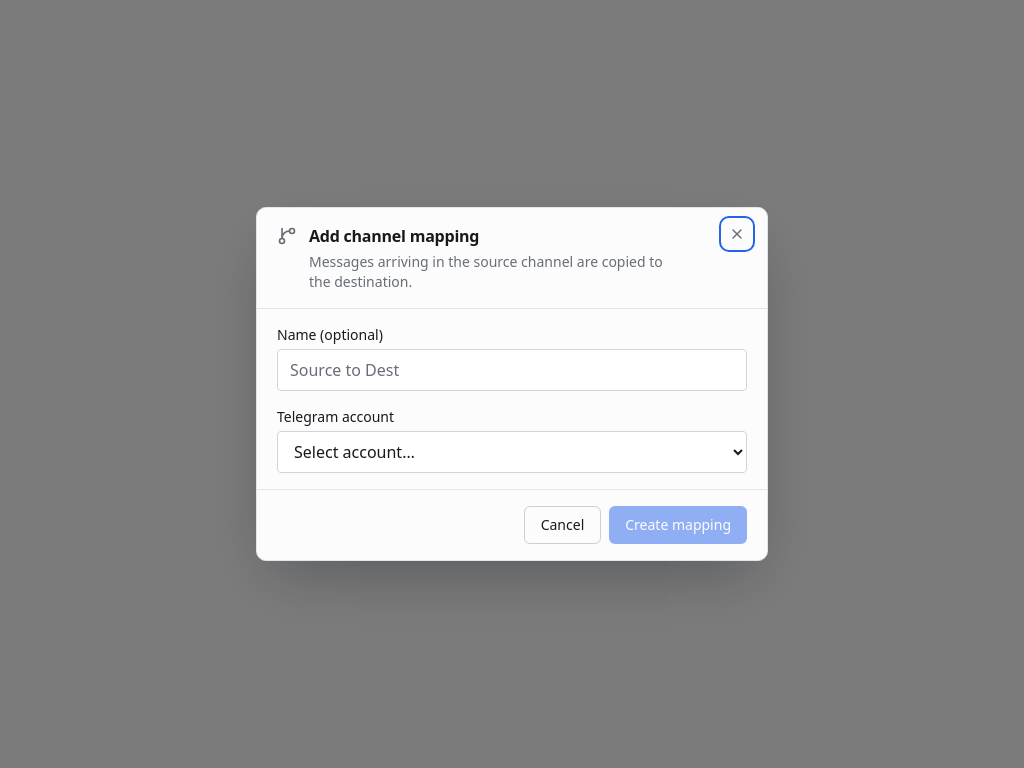
Test: AddMappingDialog › shows mapping create 400 detail
Select "Acc (user)" in the dropdown labelled "Telegram account": (512, 452) [277, 431, 747, 473]
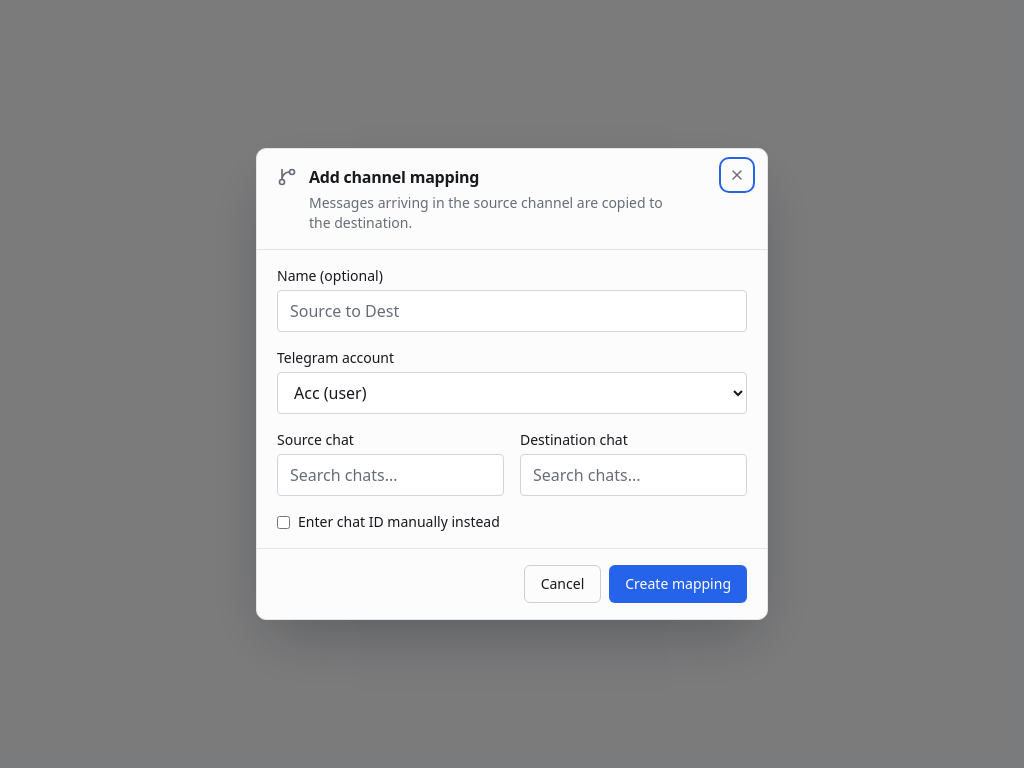
Click the checkbox labelled "Enter chat ID manually instead": (284, 522) [277, 516, 290, 528]
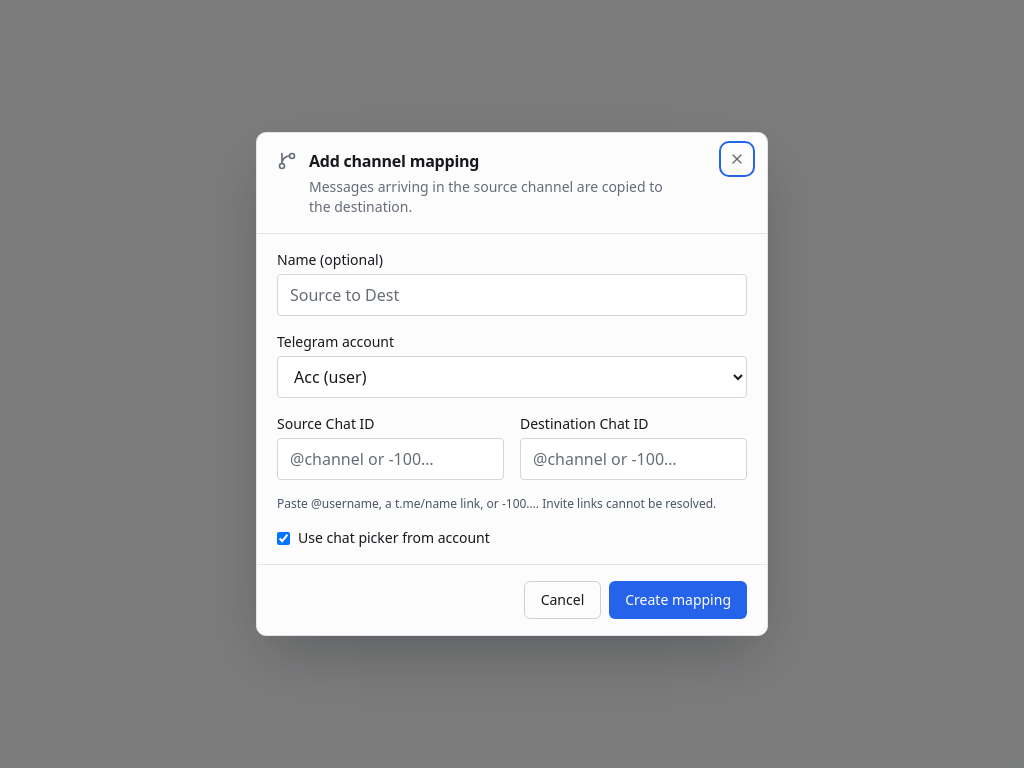
In the field labelled "Source Chat ID": (390, 459) [277, 438, 504, 480], type "-1001"
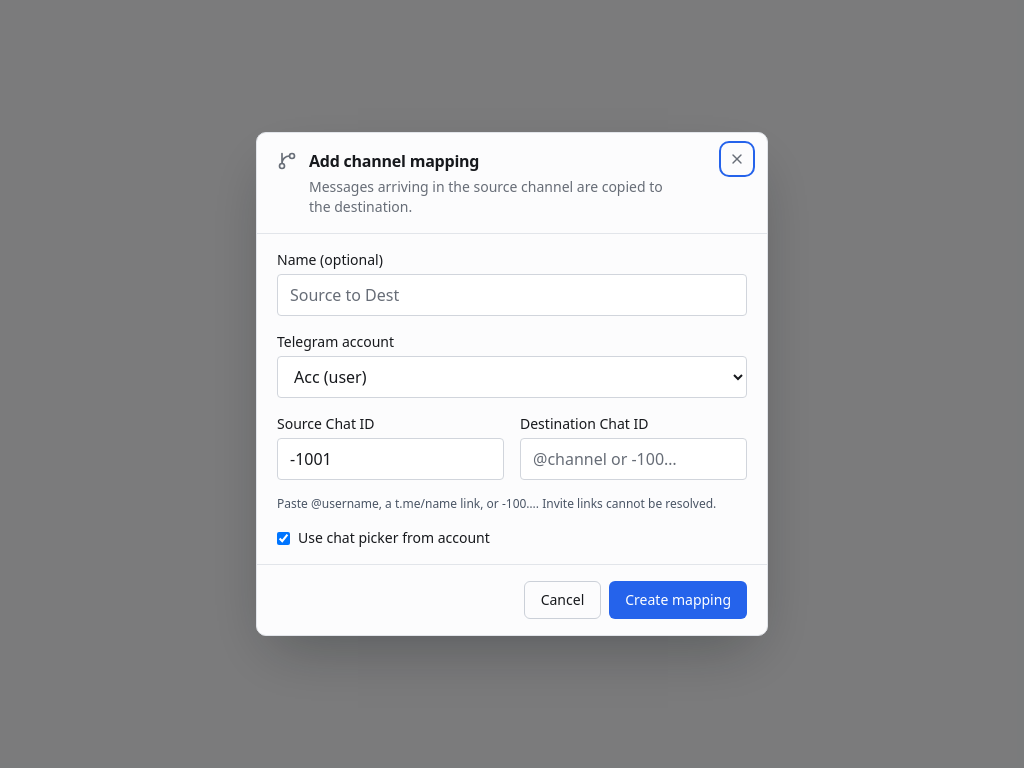
In the field labelled "Destination Chat ID": (634, 459) [520, 438, 747, 480], type "-1002"
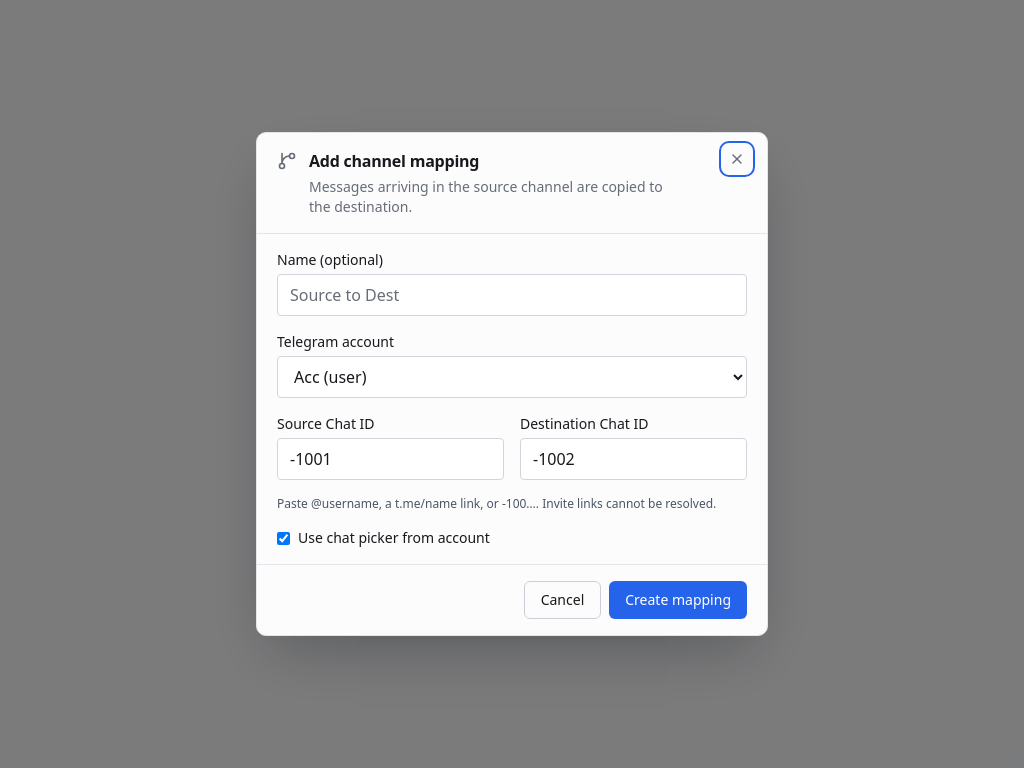
Click the button "Create mapping": (678, 600) [609, 581, 747, 619]
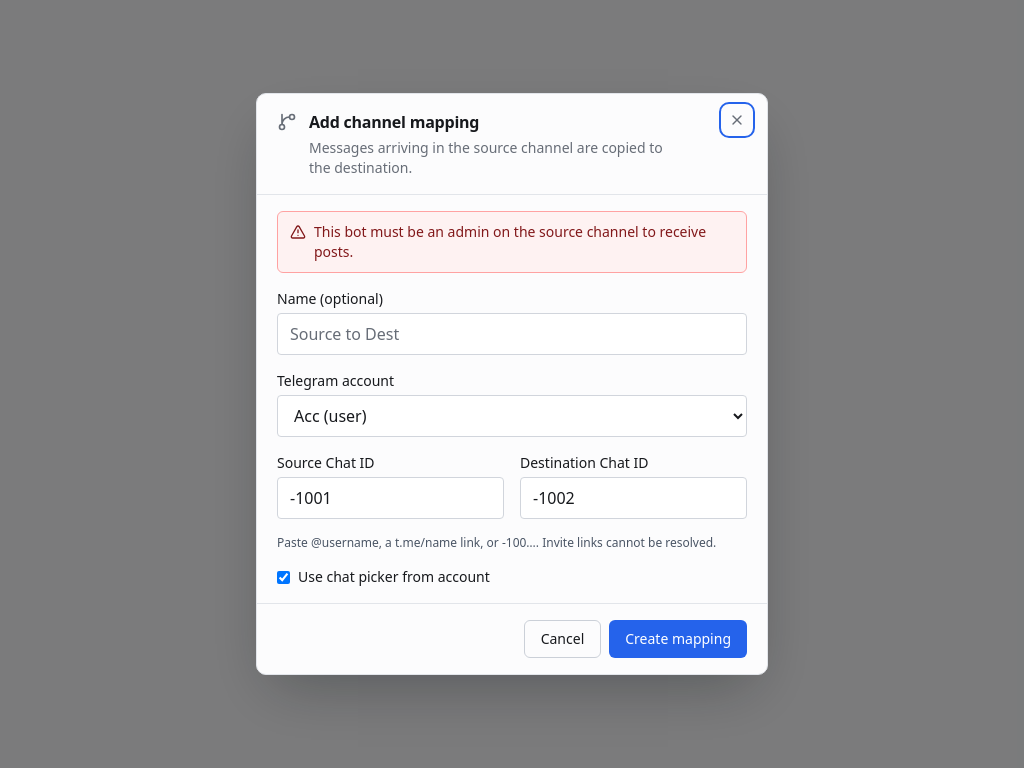
Expected: the text "admin on the source channel" is shown, [314, 222, 706, 261]
